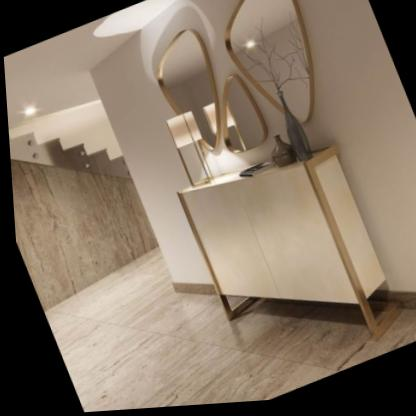Ceramic floor: (40, 251, 416, 413)
Sideboard: (175, 150, 386, 342)
